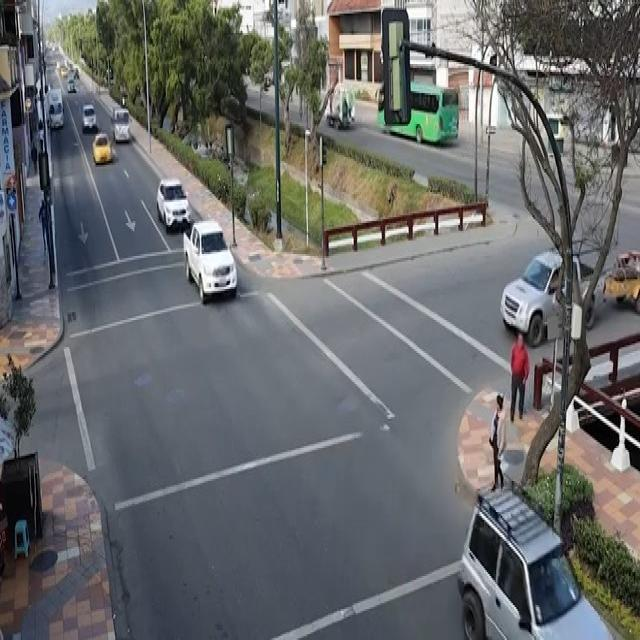BUS: (378, 83, 459, 145)
CMT: (178, 223, 238, 303)
SED: (90, 133, 114, 166)
SUV: (153, 178, 194, 232)
